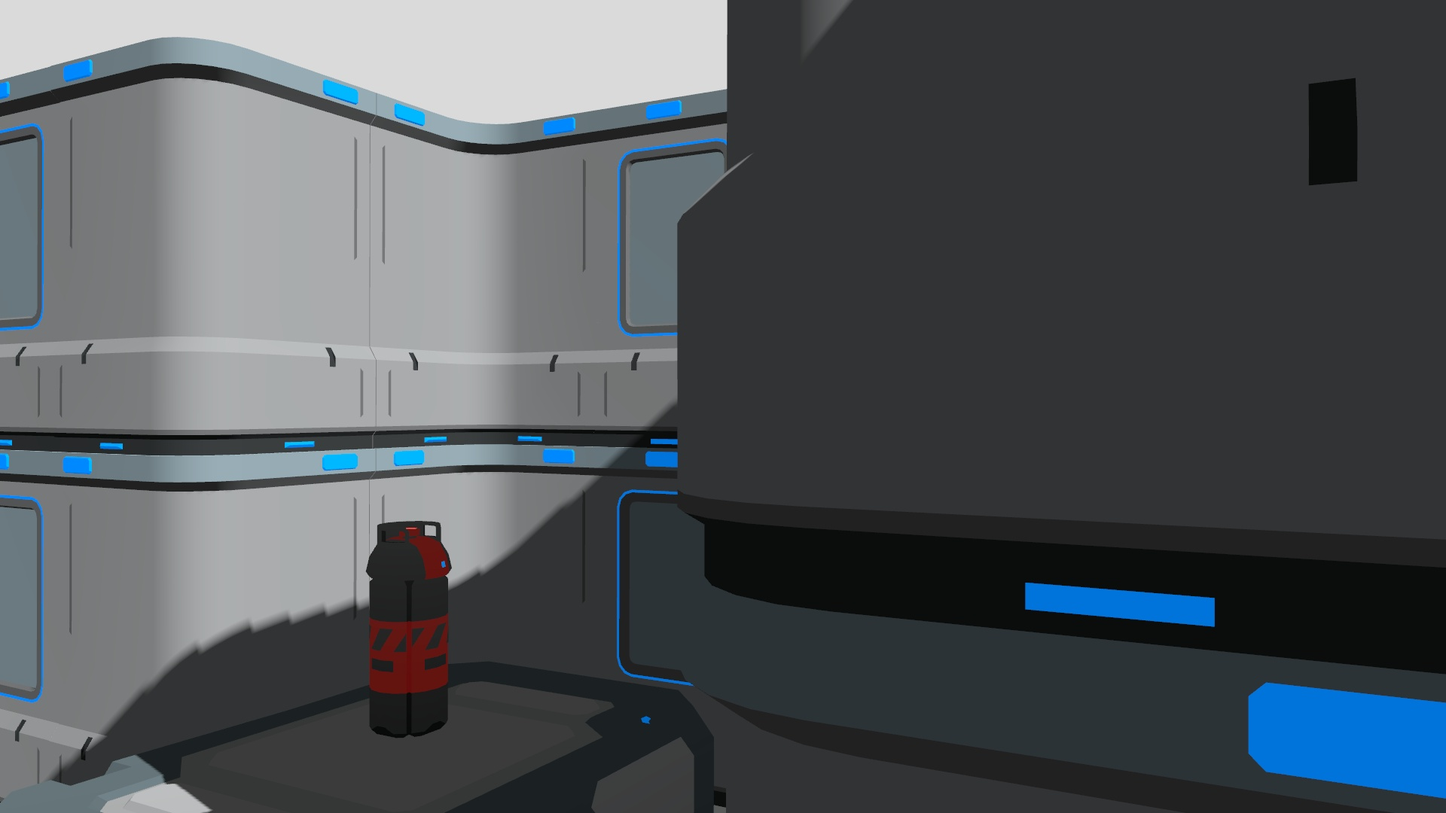red_barrel: (363, 517, 459, 748)
